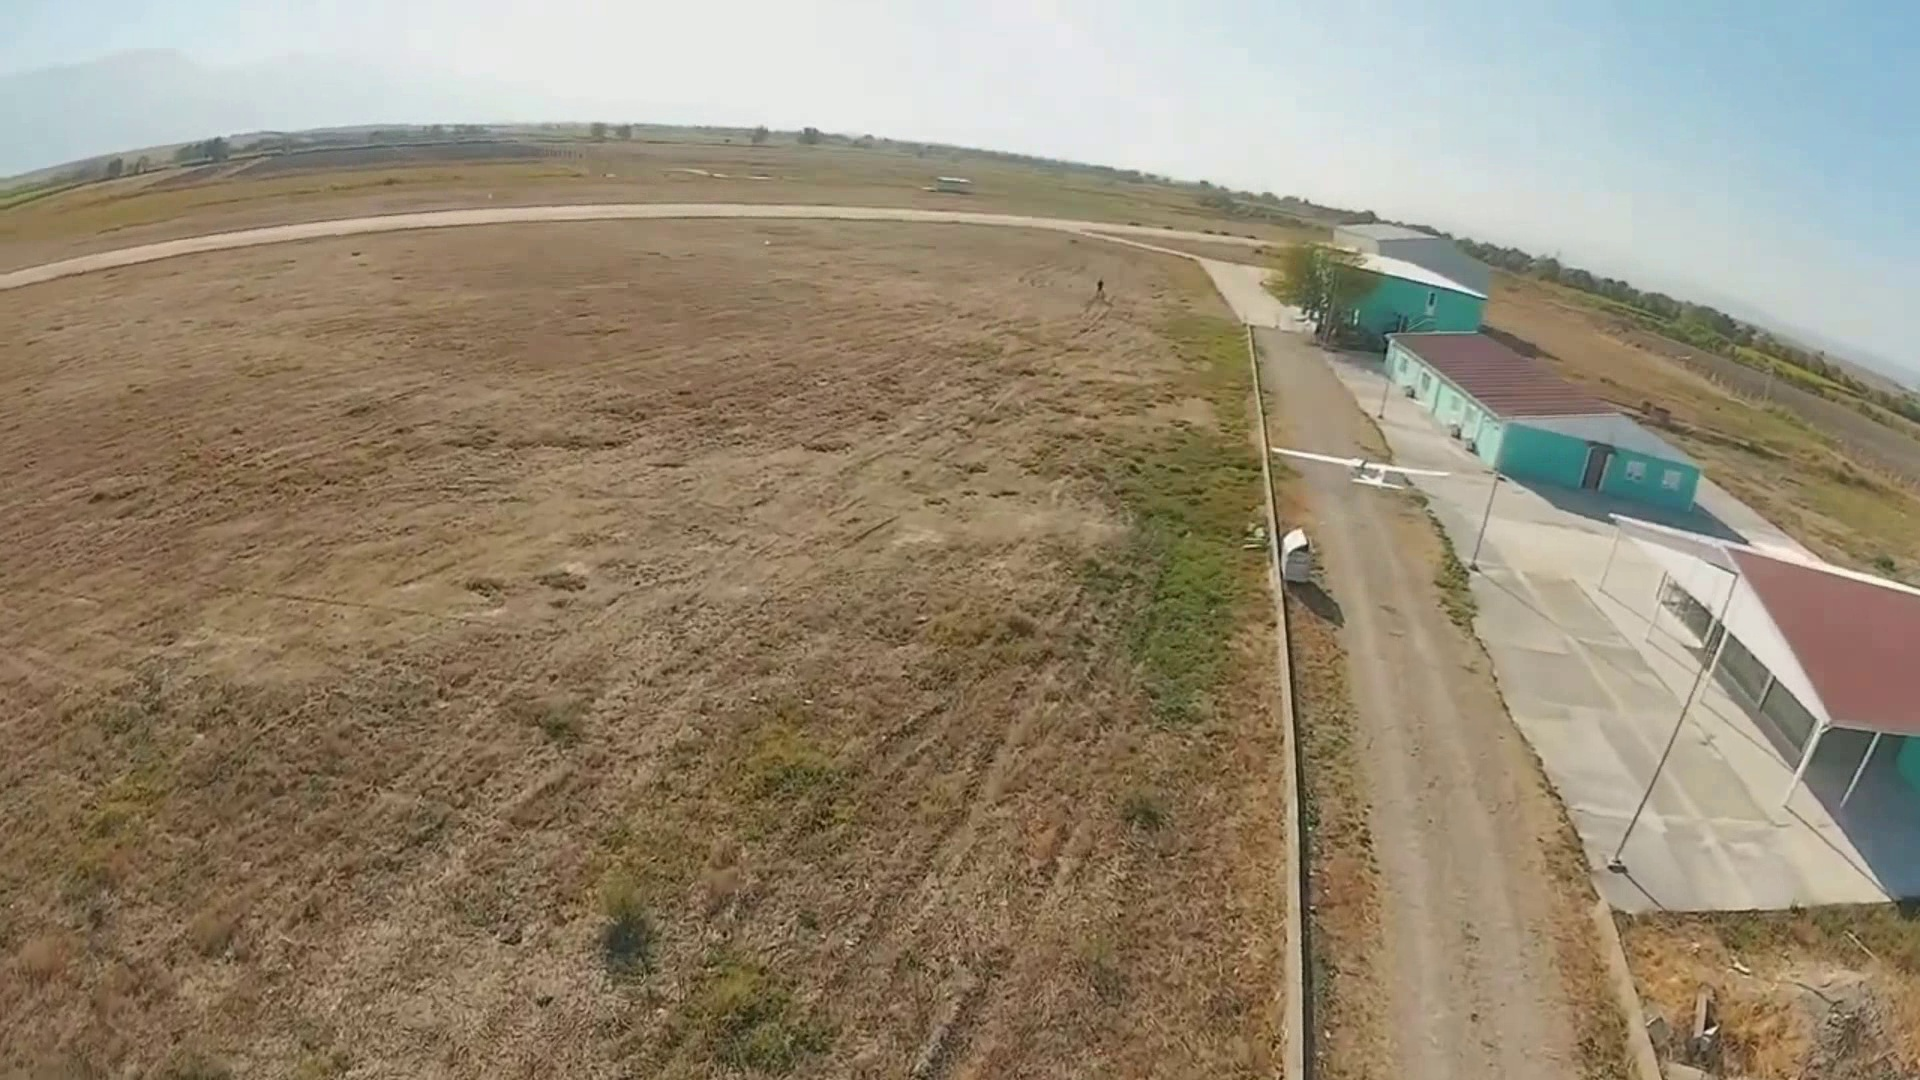airplane: (1375, 322, 1919, 913)
